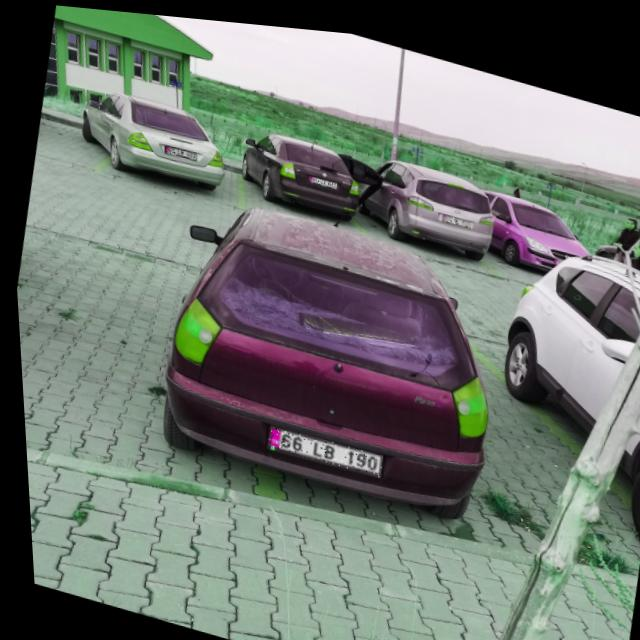license_plate: (262, 419, 379, 471), (162, 141, 196, 158), (440, 205, 469, 219), (308, 170, 335, 182)
